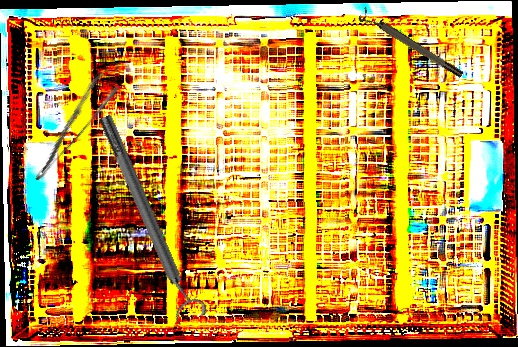Dressing Forceps: (18, 70, 122, 183)
Fixation Ring: (89, 109, 210, 327), (357, 6, 465, 84)
